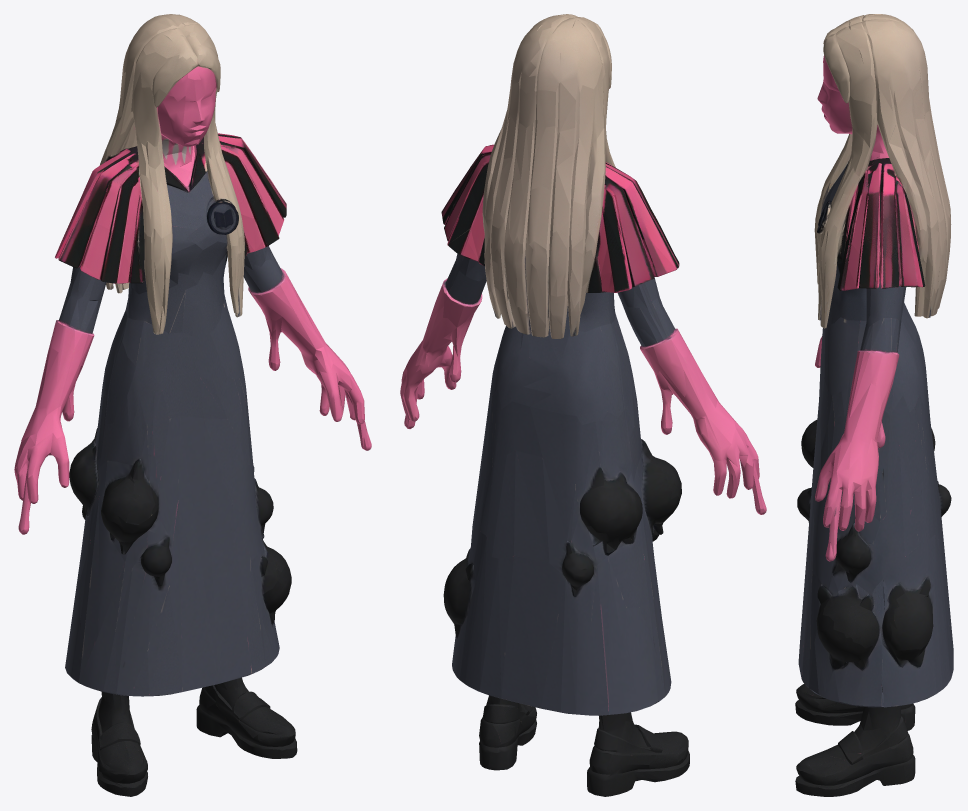
3 renders of one model, left to right at view 1: azimuth 30°, elevation 25°; view 2: azimuth 150°, elevation 25°; view 3: azimuth 270°, elevation 25°, orthographic. The views are drawn at different scales.
Size of the model in its own units: 0.9594 by 1.9 by 0.373.
1 material, 1 textured.
